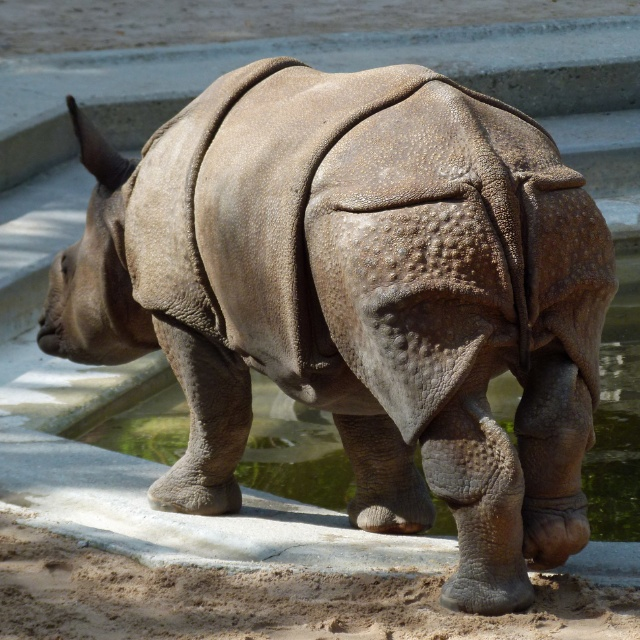Rhinoceros: (33, 55, 628, 613)
